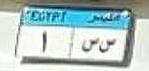1: (40, 28, 50, 53)
seen: (80, 36, 98, 53), (99, 38, 117, 54)
